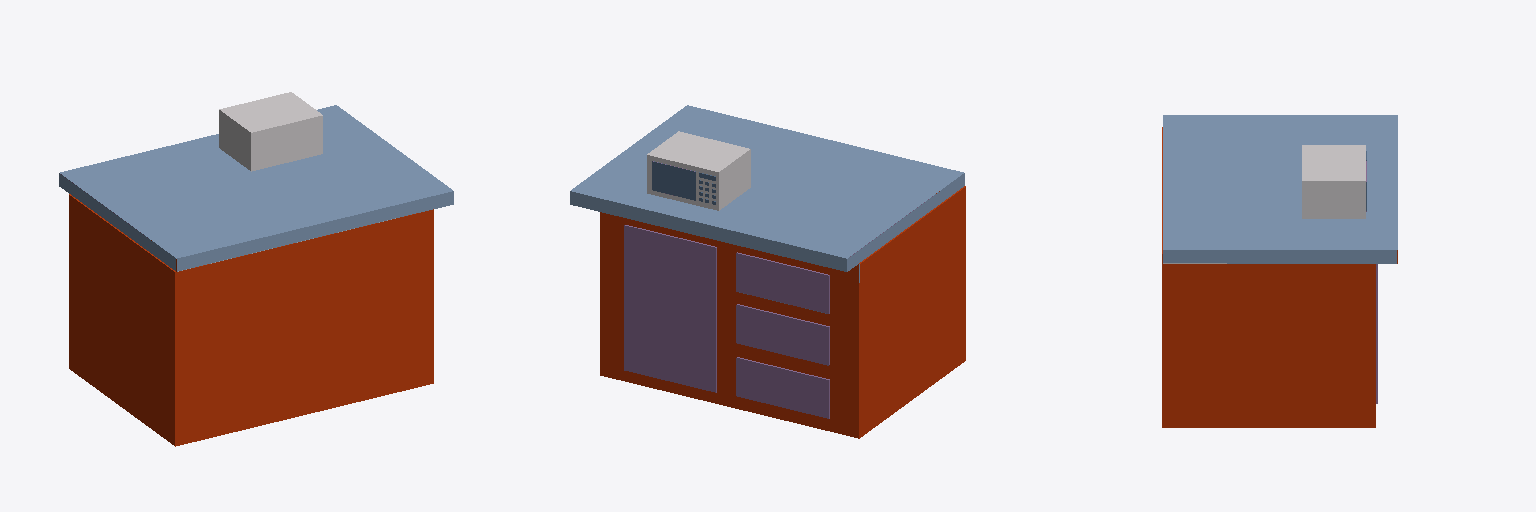
3 views of the same model, side by side, from view 1: azimuth 30°, elevation 25°; view 2: azimuth 150°, elevation 25°; view 3: azimuth 270°, elevation 25° (orthographic).
Parts seen in each view (by area): view 1: Cube.068_Cube.072; view 2: Cube.068_Cube.072; view 3: Cube.068_Cube.072.
Part boxes in pixels (bbox=[...]): Cube.068_Cube.072: bbox=[59, 92, 453, 446]; Cube.068_Cube.072: bbox=[570, 105, 965, 438]; Cube.068_Cube.072: bbox=[1162, 115, 1397, 427].
Size of the model in its own units: 13.9 by 10.82 by 10.15.
1 materials, 1 textured.